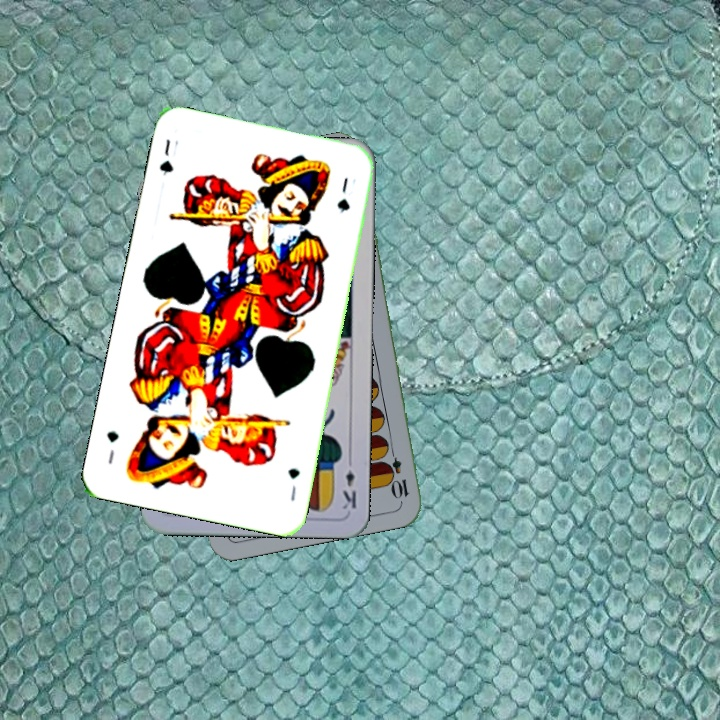E10: (384, 442, 411, 501)
EK: (339, 453, 359, 512)
GU: (155, 135, 181, 179), (283, 464, 302, 504)
